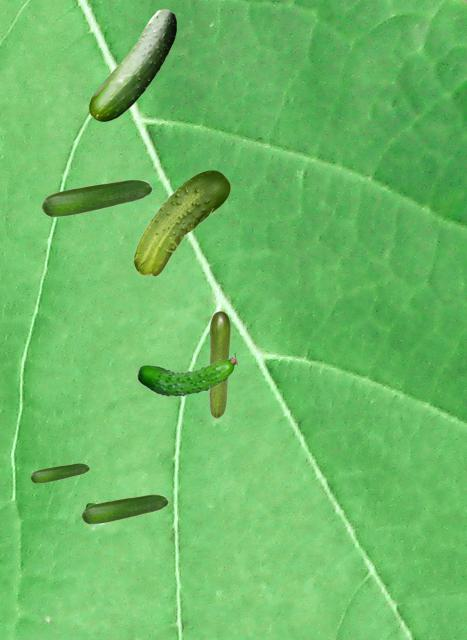cucumber: (133, 170, 229, 275), (89, 9, 175, 120), (136, 352, 236, 396), (41, 179, 151, 216), (81, 494, 167, 523), (209, 311, 229, 417), (30, 463, 88, 482), (85, 502, 94, 507)
